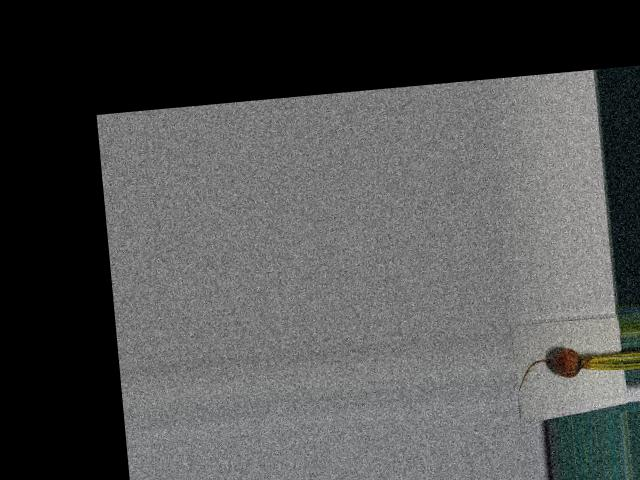beet: (515, 343, 625, 390)
